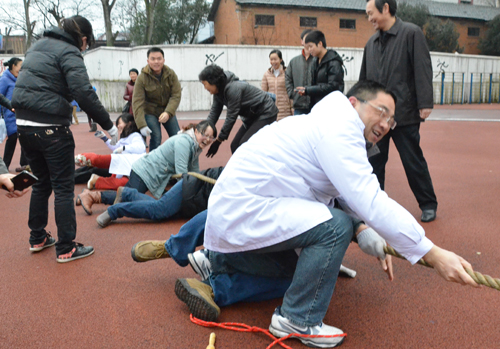10+: (6, 1, 480, 344)
down: (87, 118, 218, 209), (91, 165, 243, 232), (71, 111, 146, 188), (69, 151, 168, 192)
